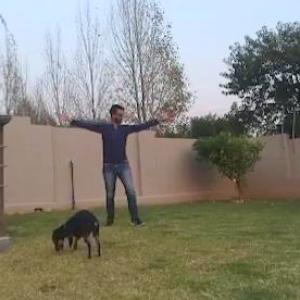takeoff: (46, 100, 166, 237)
